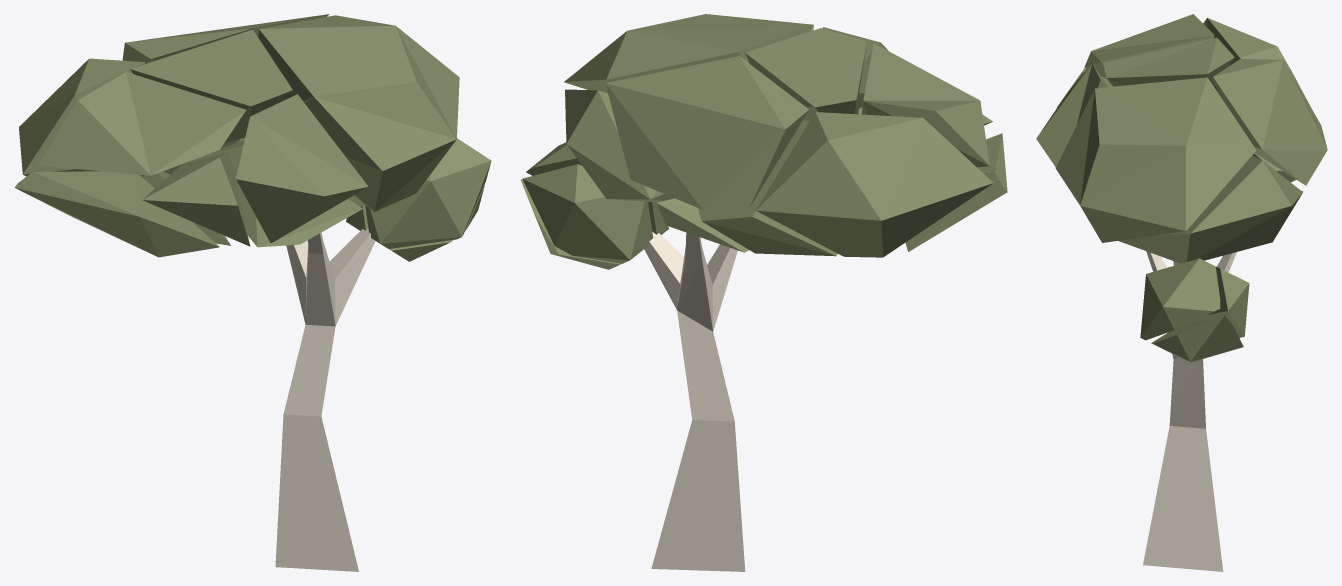
Rendered from tree_4.fbx.
3 renders of one model, left to right at view 1: azimuth 30°, elevation 25°; view 2: azimuth 150°, elevation 25°; view 3: azimuth 270°, elevation 25°, orthographic. The views are drawn at different scales.
Visible parts, largest first — view 1: tree_4; view 2: tree_4; view 3: tree_4.
Part boxes in pixels (x1,y1,x2,y2): tree_4: (14,14,491,571); tree_4: (520,14,1007,571); tree_4: (1036,14,1327,571).
Bounding box in the file's own units: 312 × 340 × 195.
